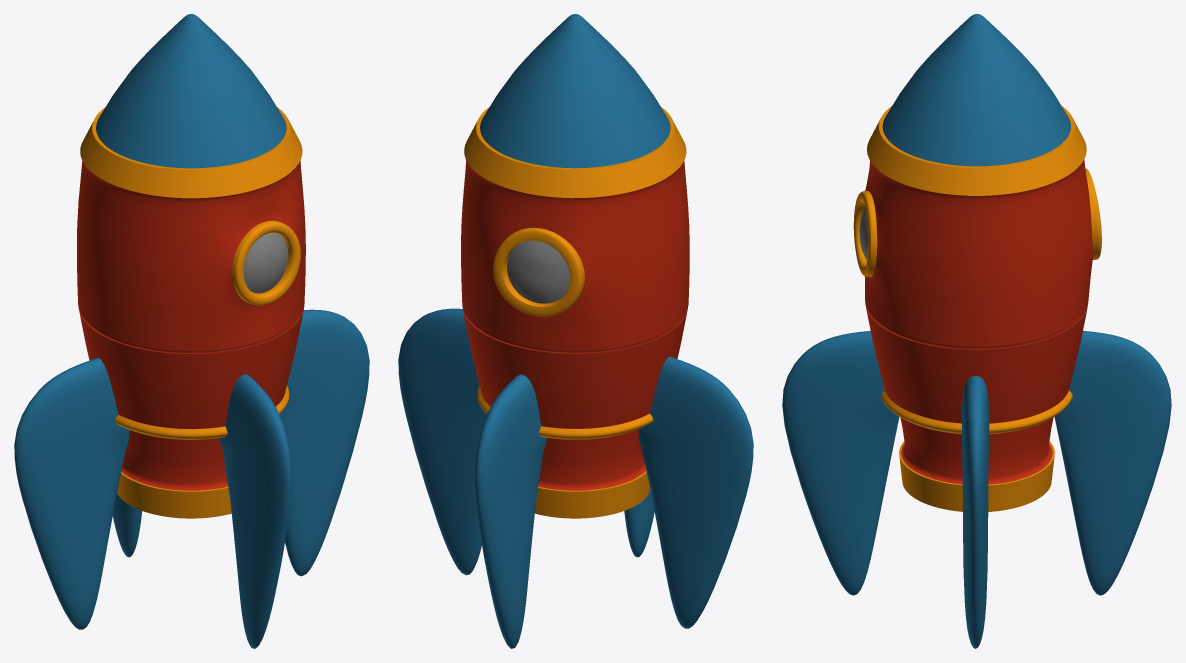
File: toy13.fbx
3 renders of one model, left to right at view 1: azimuth 30°, elevation 25°; view 2: azimuth 150°, elevation 25°; view 3: azimuth 270°, elevation 25°, orthographic.
Visible parts, largest first — view 1: Cylinder.031, Cube.039; view 2: Cylinder.031, Cube.039; view 3: Cylinder.031, Cube.039.
Boxes of the visible parts, x1,y1,x2,y2 form: Cylinder.031: [77, 14, 305, 518]; Cube.039: [14, 309, 369, 648]; Cylinder.031: [461, 14, 689, 518]; Cube.039: [398, 308, 753, 648]; Cylinder.031: [853, 14, 1101, 511]; Cube.039: [782, 330, 1171, 648].
Size of the model in its own units: 0.4772 by 0.4596 by 0.7565.
